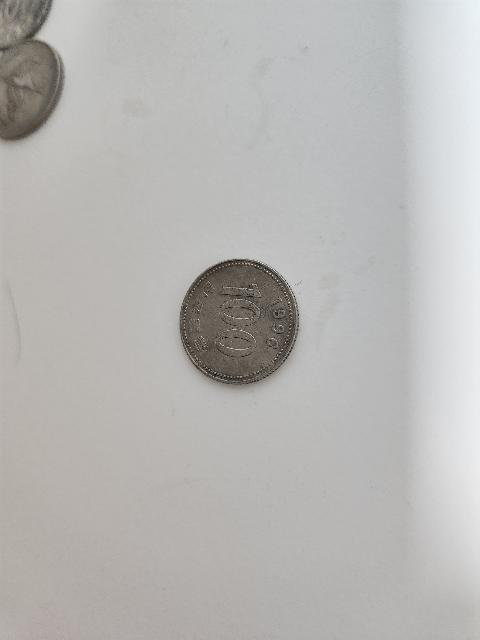coin: (182, 258, 298, 390)
